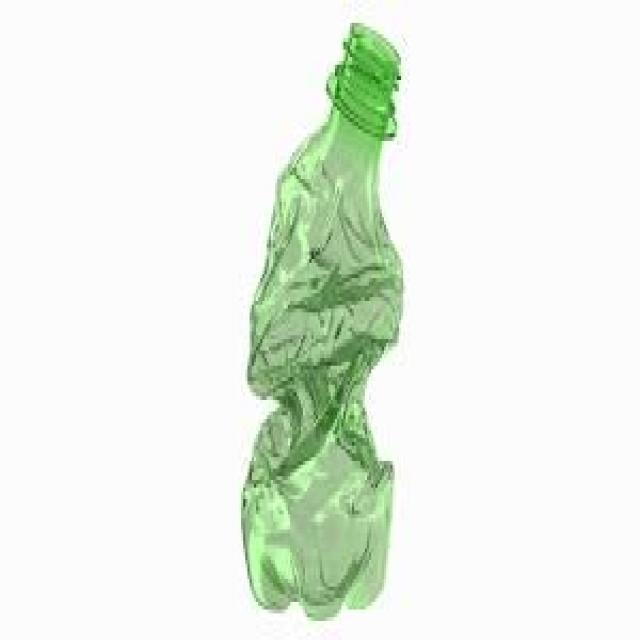BIODEGRADABLE: (233, 12, 412, 618)
